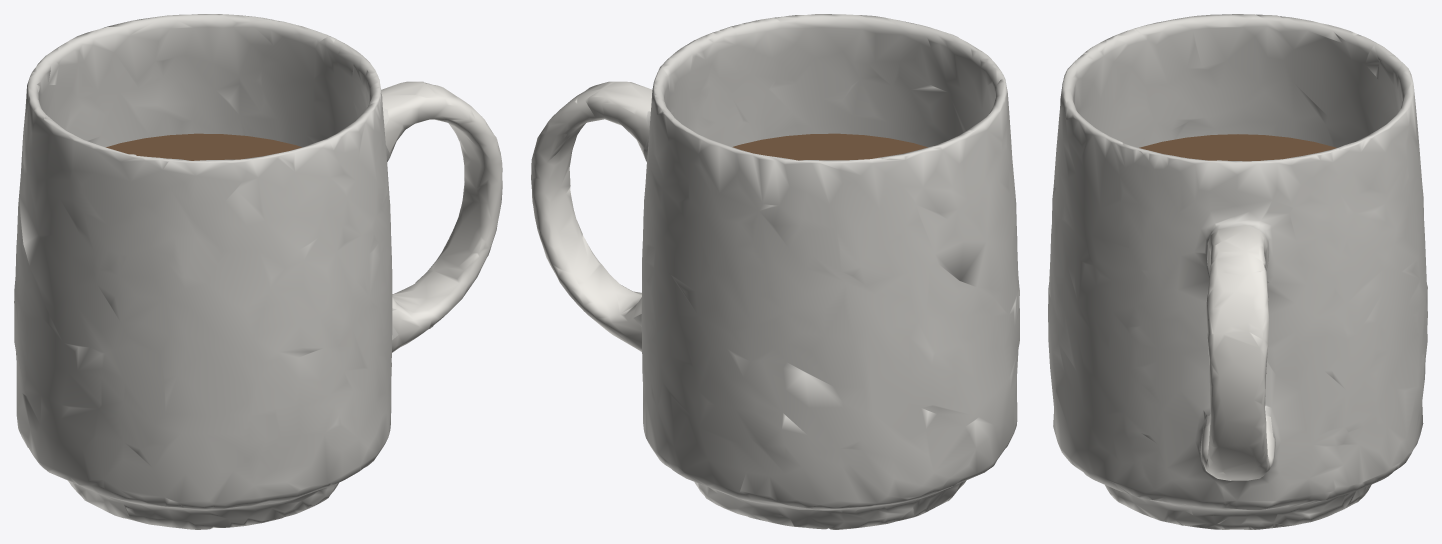
Rendered from mug.glb.
The picture shows the model from 3 angles, left to right: view 1: azimuth 30°, elevation 25°; view 2: azimuth 150°, elevation 25°; view 3: azimuth 270°, elevation 25°; orthographic projection.
Visible parts, largest first — view 1: body, handle, coffee; view 2: body, handle, coffee; view 3: body, handle, coffee.
Part boxes in pixels (<box>): body: <box>14,14,398,529</box>; handle: <box>381,81,502,352</box>; coffee: <box>106,133,301,160</box>; body: <box>633,14,1019,529</box>; handle: <box>531,81,652,351</box>; coffee: <box>732,133,927,160</box>; body: <box>1048,14,1427,529</box>; handle: <box>1200,225,1275,480</box>; coffee: <box>1139,134,1336,161</box>.
Size of the model in its own units: 1.9 by 1.54 by 1.38.
